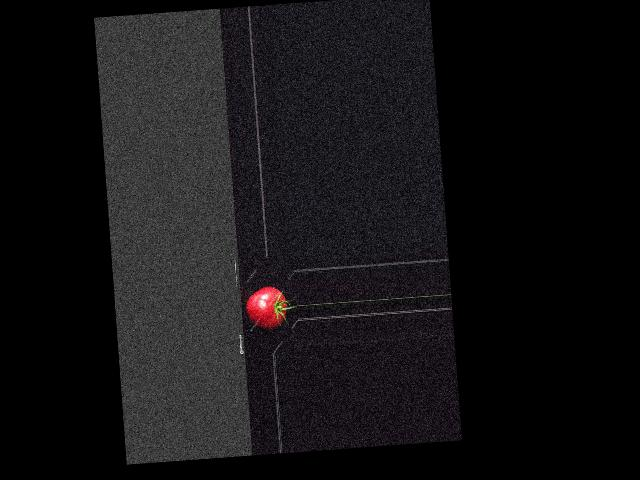tomato: (244, 285, 288, 330)
